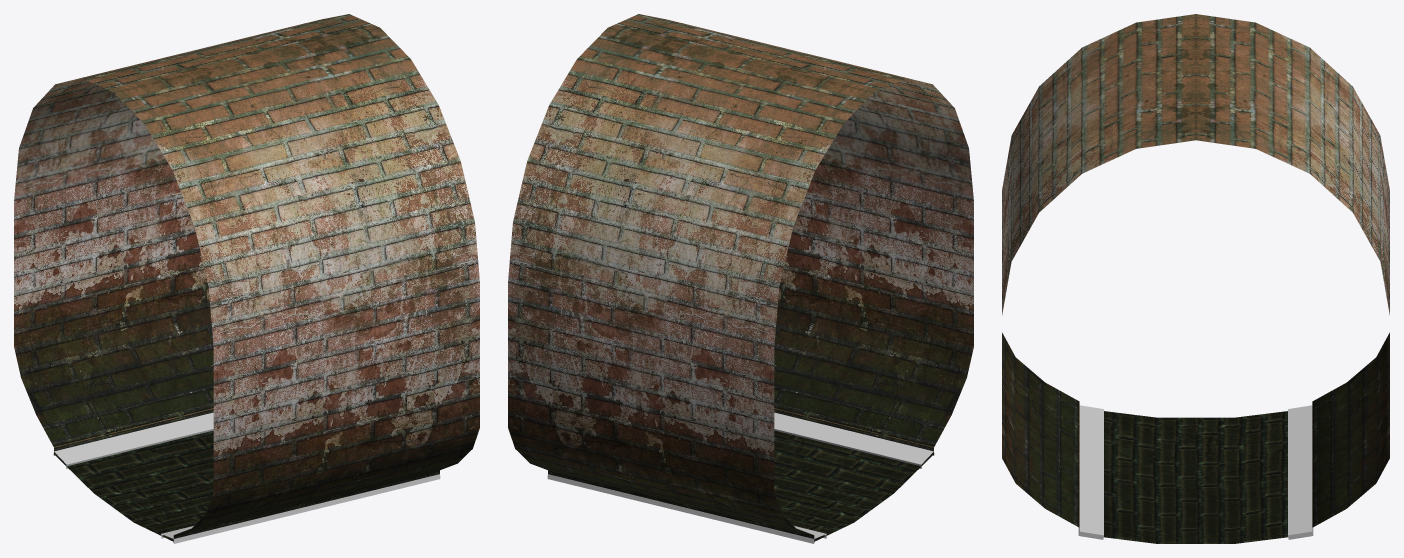
Rendered from TL_small.DAE.
3 renders of one model, left to right at view 1: azimuth 30°, elevation 25°; view 2: azimuth 150°, elevation 25°; view 3: azimuth 270°, elevation 25°, orthographic. The views are drawn at different scales.
Visible parts, largest first — view 1: tunnel_low_small, tunnel_low_floor_small, tunnel_low_drain_small; view 2: tunnel_low_small, tunnel_low_floor_small, tunnel_low_drain_small; view 3: tunnel_low_small, tunnel_low_floor_small, tunnel_low_drain_small.
Part boxes in pixels (x1,y1,x2,y2): tunnel_low_small: [14, 14, 479, 542]; tunnel_low_floor_small: [54, 430, 213, 541]; tunnel_low_drain_small: [53, 412, 440, 543]; tunnel_low_small: [508, 14, 973, 542]; tunnel_low_floor_small: [774, 430, 933, 541]; tunnel_low_drain_small: [547, 412, 934, 543]; tunnel_low_small: [1002, 14, 1389, 527]; tunnel_low_floor_small: [1104, 411, 1287, 543]; tunnel_low_drain_small: [1078, 405, 1313, 539].
Bounding box in the file's own units: 2 × 2.59 × 2.98.
